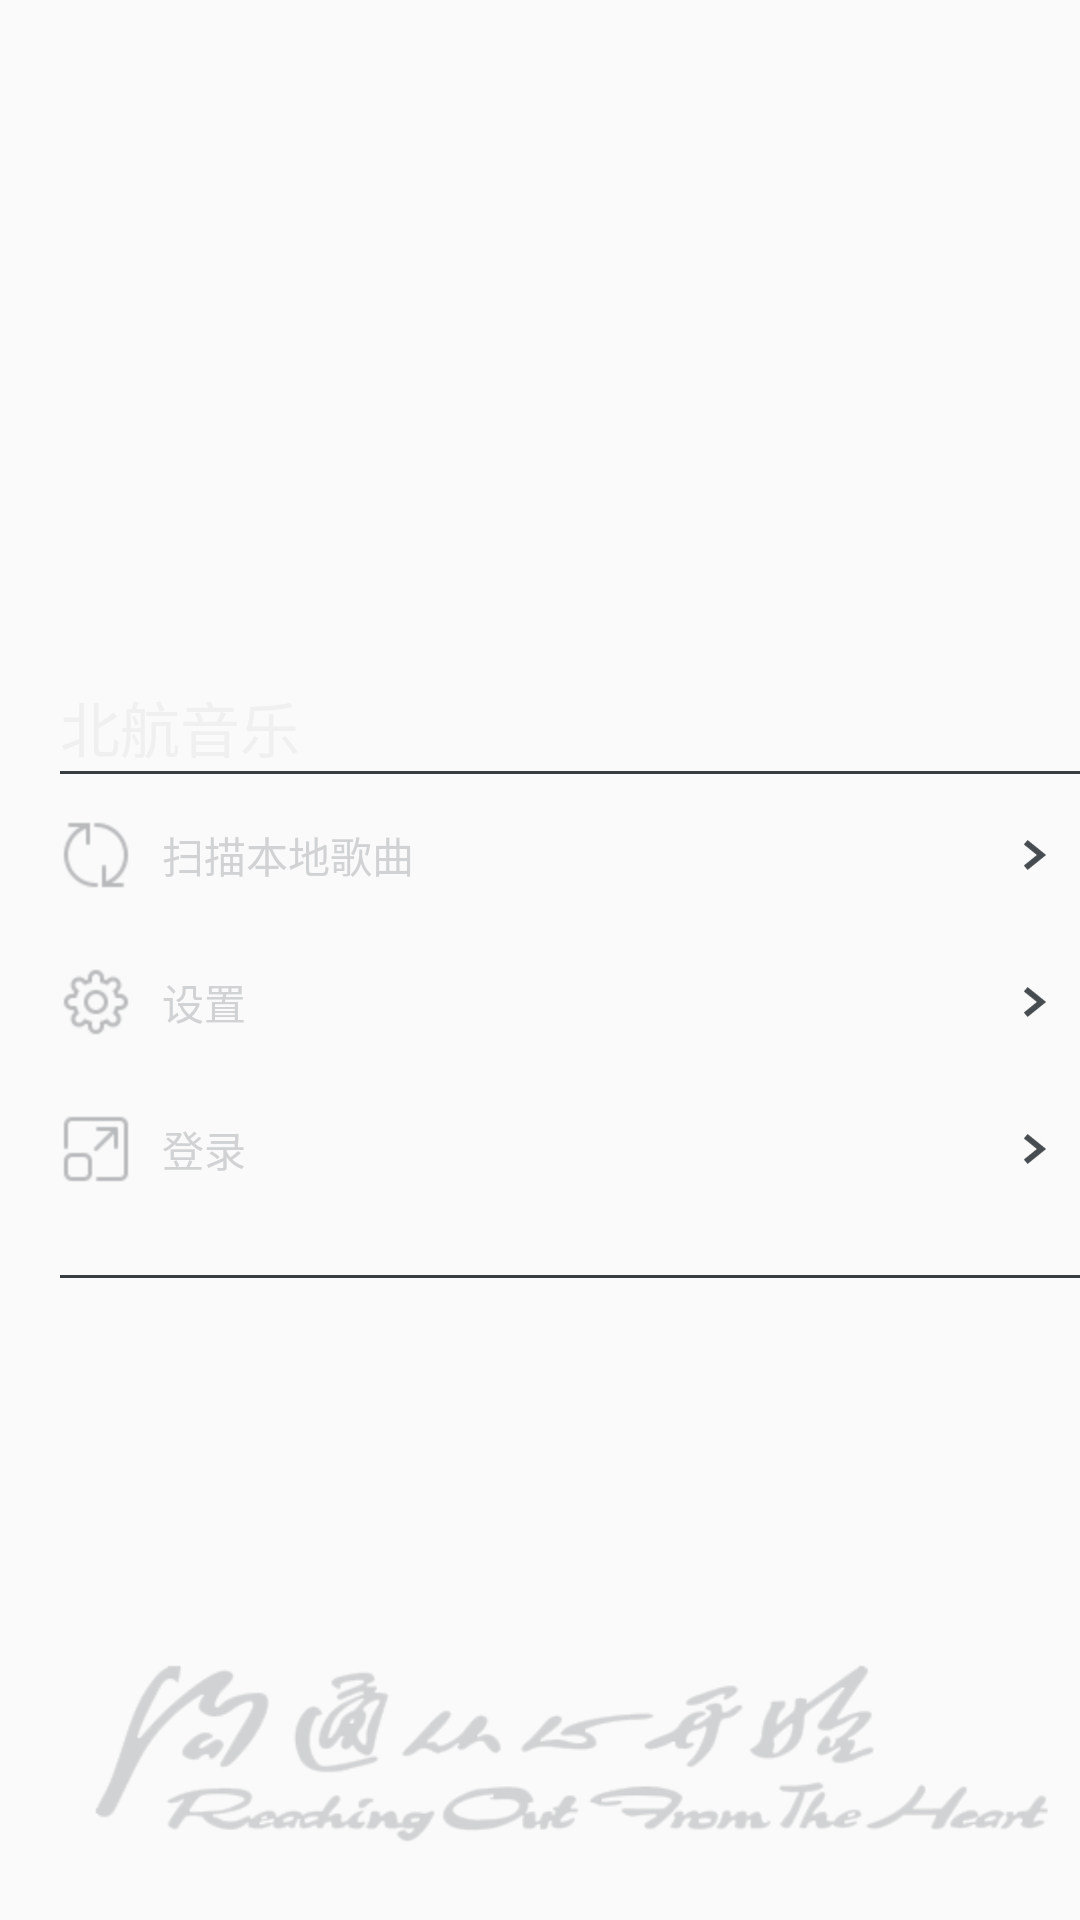

Locate icon controls on the screen. Image size 1080w x 1920h, boxes as box=[x1, y1, x2, y2].
setting right: box=[1024, 840, 1046, 870], box=[1024, 987, 1046, 1017], box=[1024, 1134, 1046, 1164]
setting update: box=[64, 823, 128, 887]
